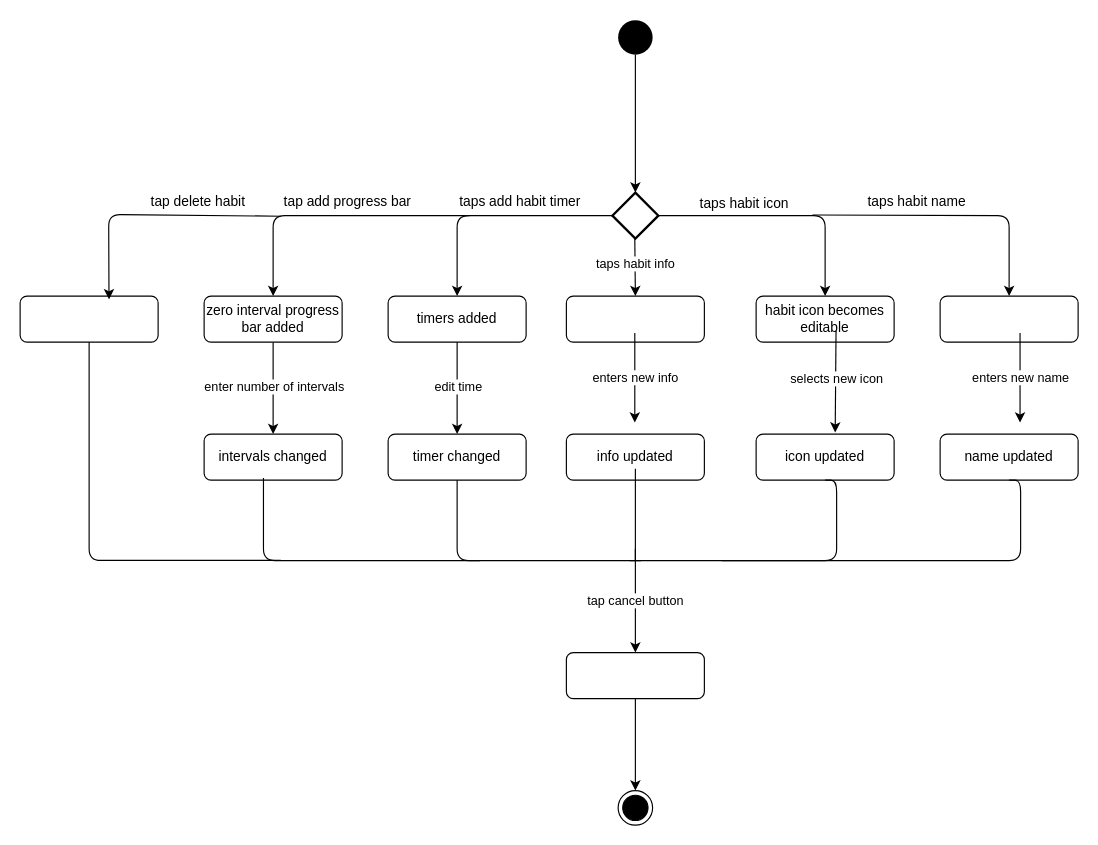
Image size: 1098x845. Some labels were removed from this diagram. Here are the shapes that lost their labels. From the top down, the centre of each, then its label:
At point 88,318: "deletes habit".
At point 634,318: "info becomes editable".
At point 1008,318: "habit name becomes editable".
At point 634,675: "save and exit".
